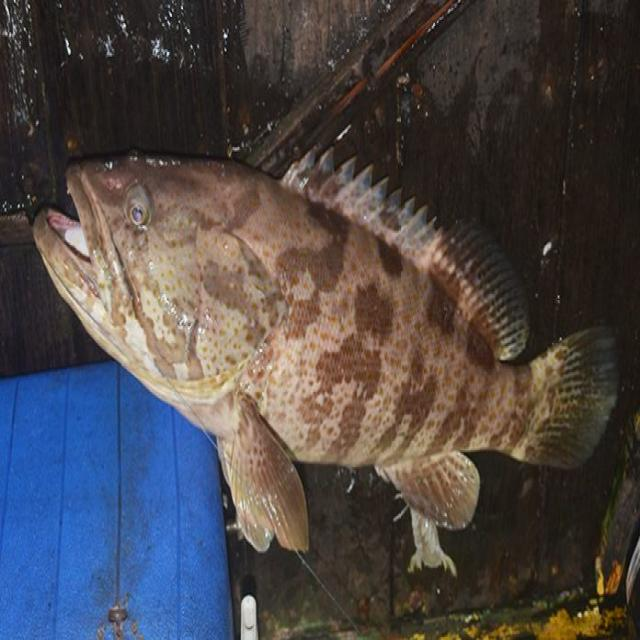grouper: (27, 128, 619, 562)
